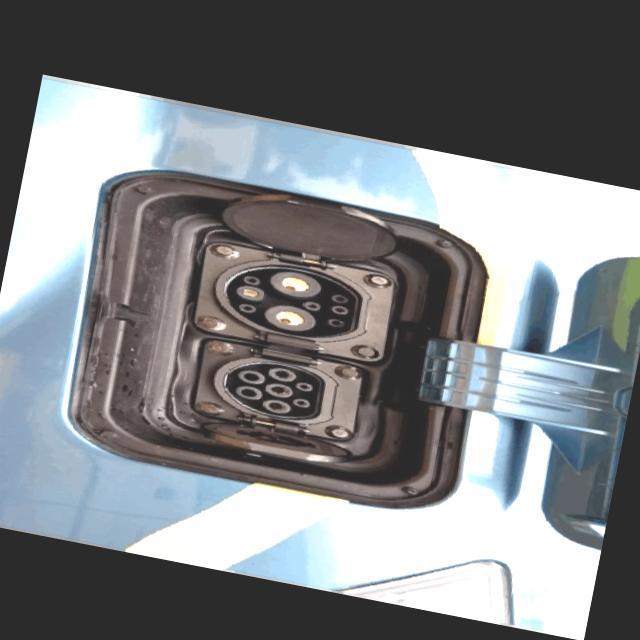GB-T: (200, 233, 402, 353)
